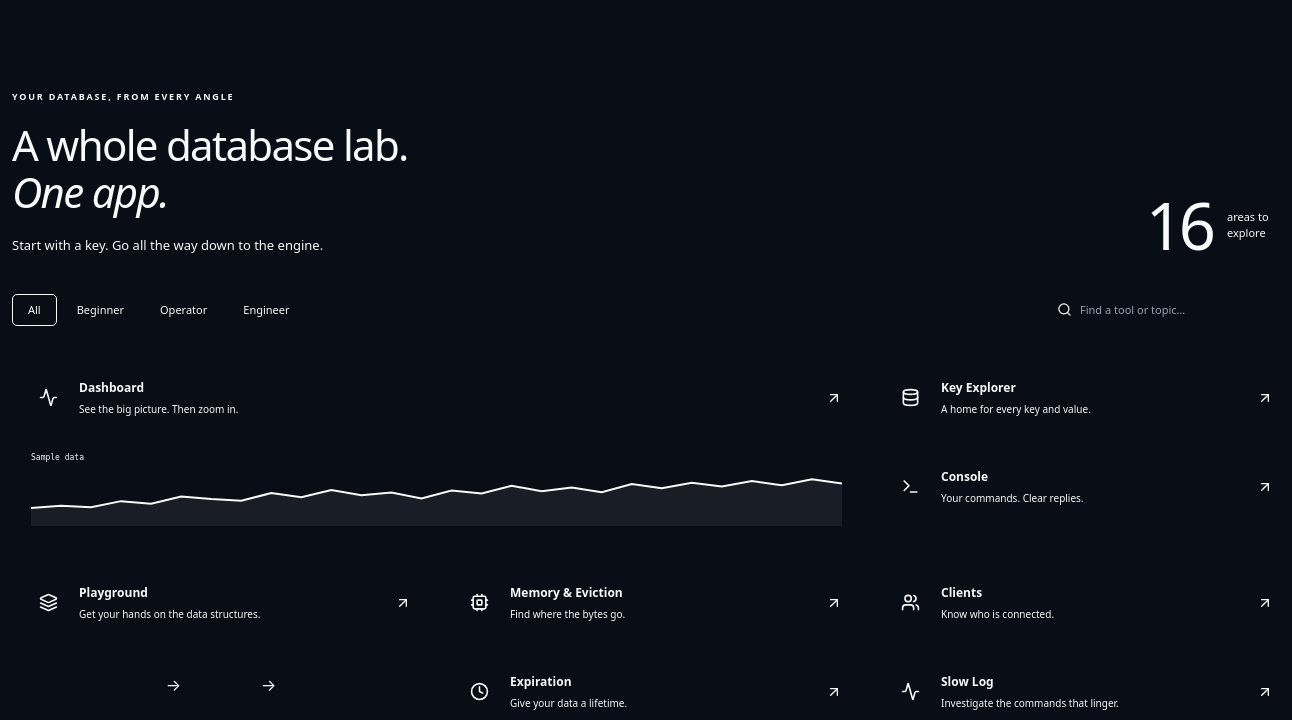
it: Landing credibility and navigation › filters by audience and searches immediately
Click the button "Engineer": [266, 310] box x1=227 y1=294 x2=306 y2=326
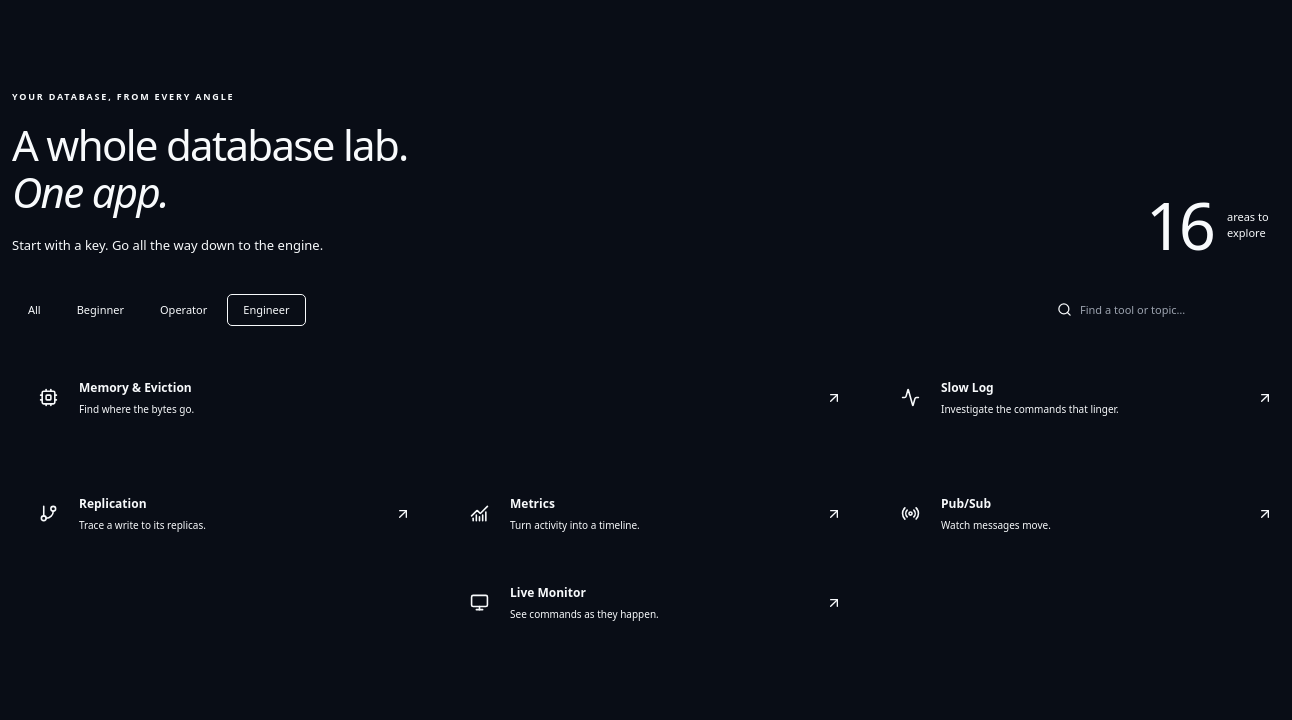
Expected: the link "Memory & Eviction Find where the bytes go." is shown, x1=39 y1=379 x2=842 y2=416
Expected: the link "Key Explorer" is gone
In the search field: [1180, 310] box x1=1080 y1=302 x2=1280 y2=318, type "nonsense"
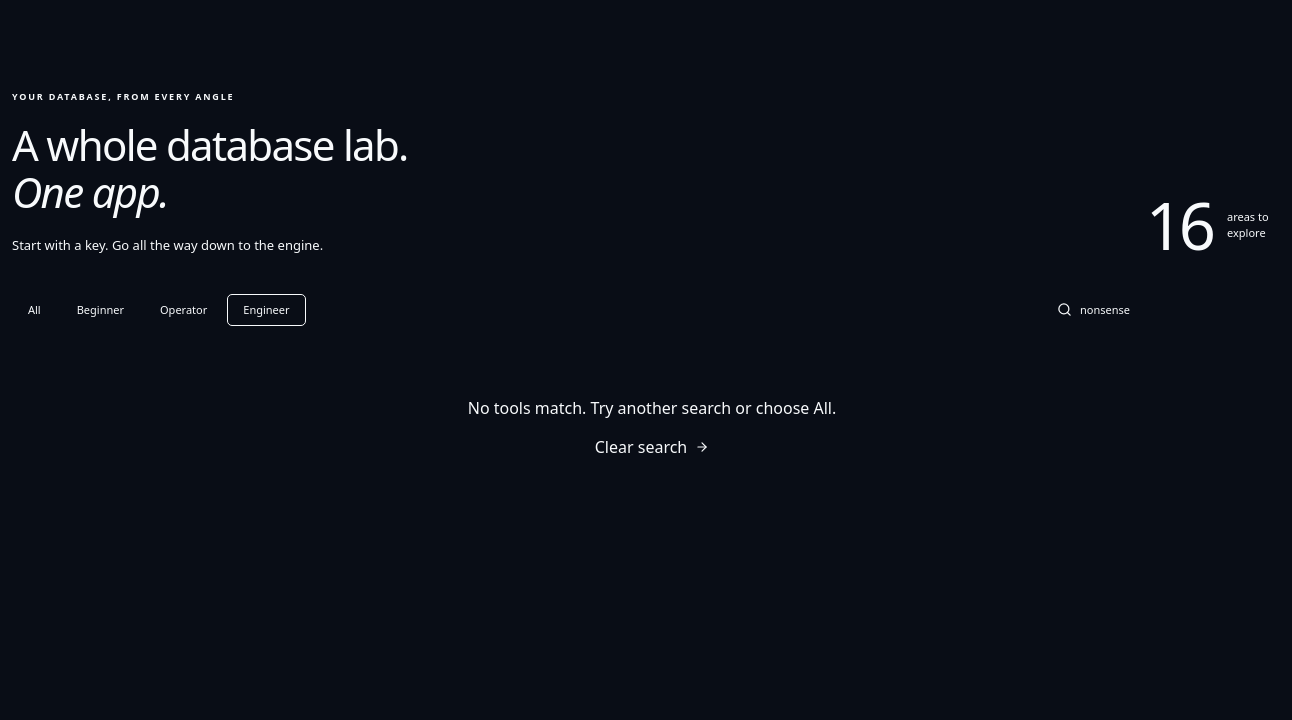
Expected: the message shows "No tools match", x1=468 y1=397 x2=836 y2=419
Click the button "Clear search": [652, 447] box x1=595 y1=435 x2=709 y2=459
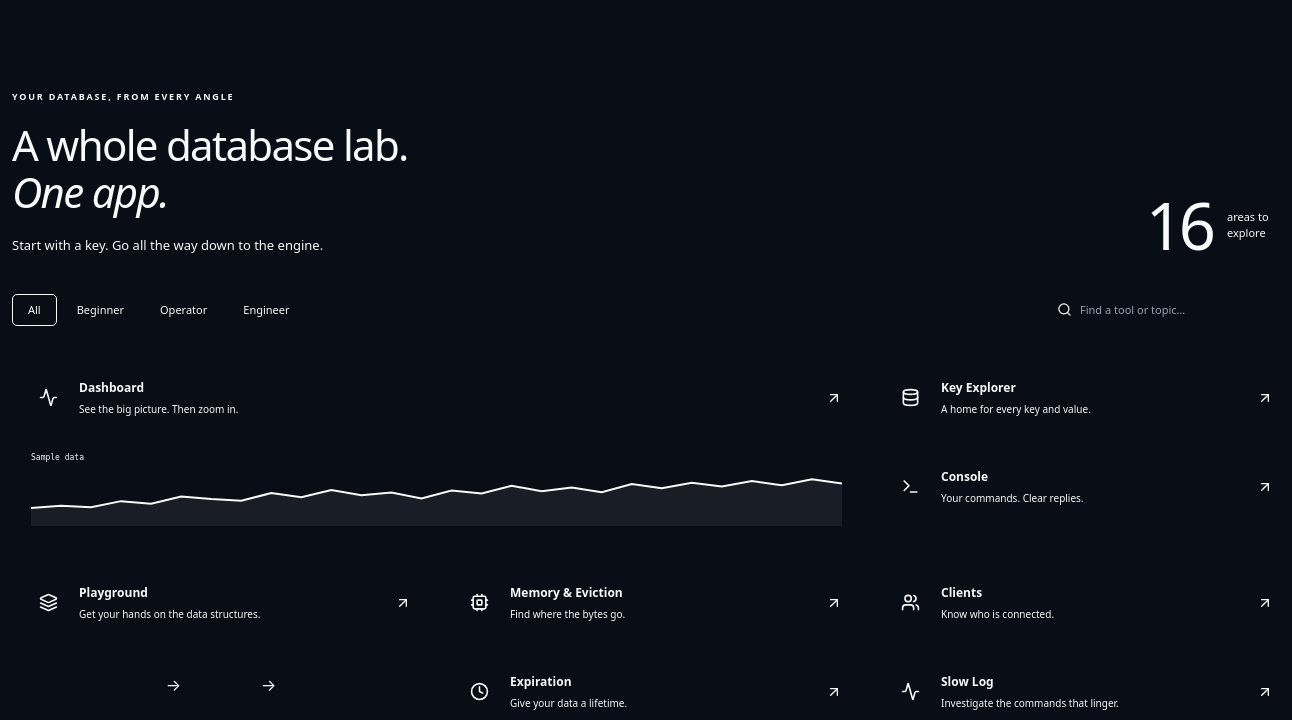
Expected: the link "Key Explorer A home for every key and value." is shown, x1=901 y1=379 x2=1273 y2=416
